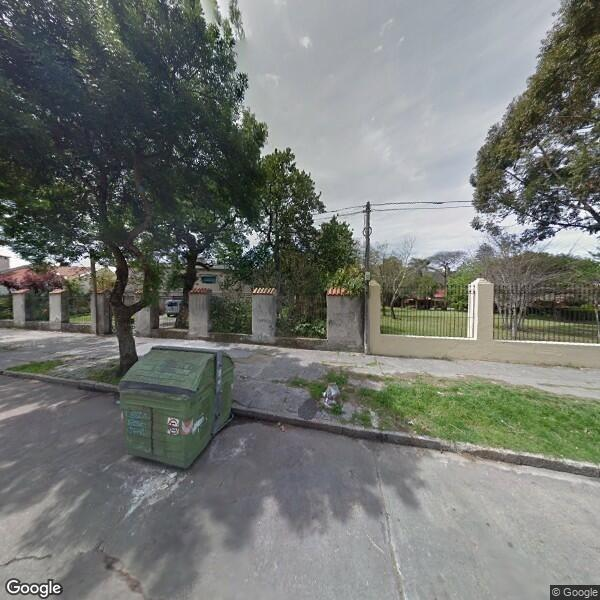Trash: (117, 347, 241, 470)
